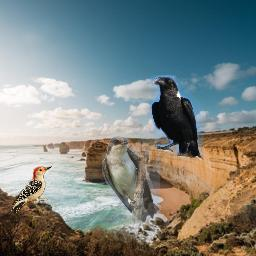Crow: (150, 75, 204, 161)
Swallow: (102, 136, 160, 223)
Woodpecker: (5, 166, 52, 216)
